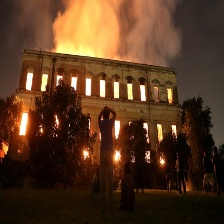fire: (18, 106, 30, 139)
smoke: (32, 1, 199, 51)
